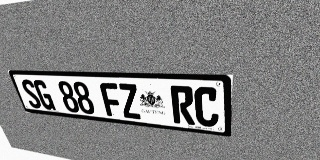8: (71, 81, 96, 115), (56, 81, 81, 113)
C: (194, 86, 219, 128)
F: (99, 82, 124, 117)
G: (32, 80, 56, 110)
R: (170, 85, 195, 125)
S: (19, 79, 43, 109)
Z: (117, 83, 142, 119)
